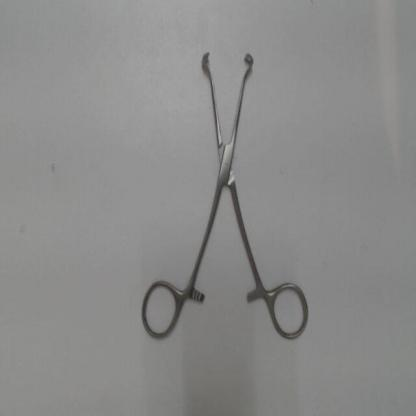Babcock Tissue Forceps: (133, 44, 315, 348)
